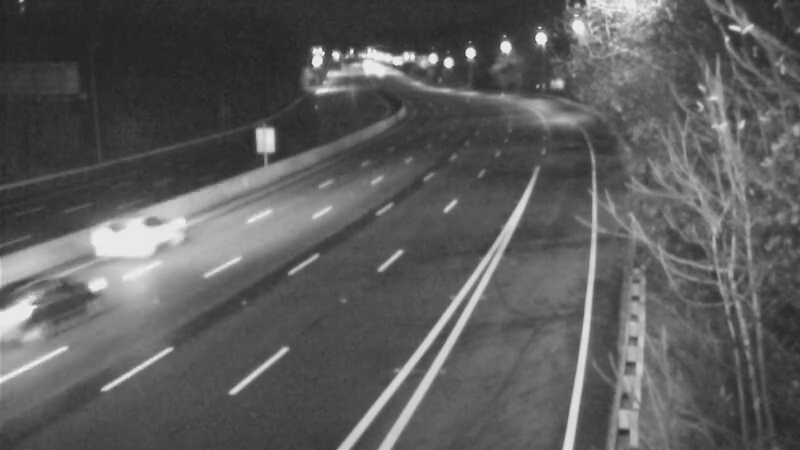vehicle: (1, 251, 107, 361), (85, 201, 165, 281)
